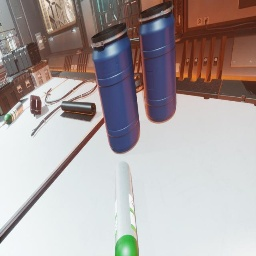0: (115, 161, 138, 256), (2, 102, 23, 126)
EmergencyPhone ,: (42, 35, 47, 42)
FirstAidBox ,: (30, 95, 42, 117)
SafetySwitchPanel ,: (35, 32, 45, 50)
